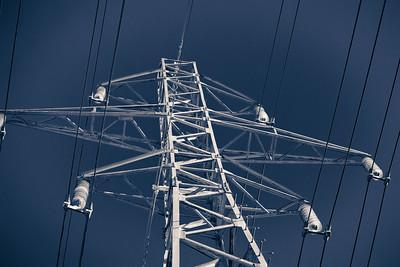power_tower: (1, 55, 386, 267)
